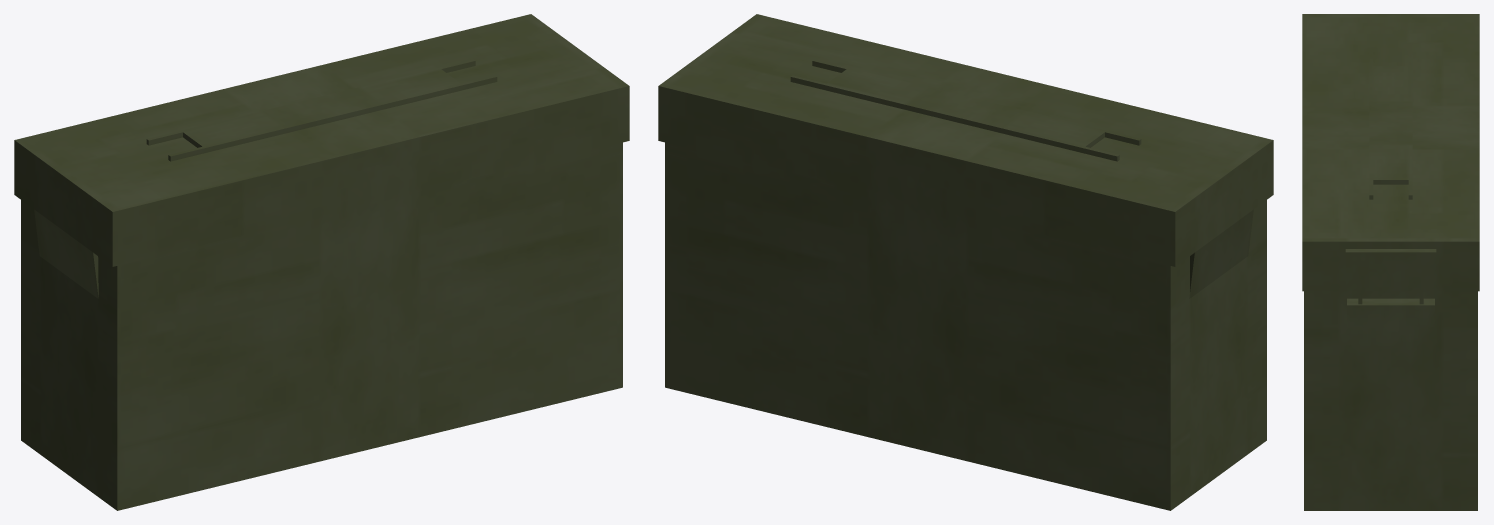
File: AmmoBox.glb
3 views of the same model, side by side, from view 1: azimuth 30°, elevation 25°; view 2: azimuth 150°, elevation 25°; view 3: azimuth 270°, elevation 25° (orthographic). The views are drawn at different scales.
Visible parts, largest first — view 1: AmmoBox; view 2: AmmoBox; view 3: AmmoBox.
Part boxes in pixels (<box>): AmmoBox: <box>14,14,629,510</box>; AmmoBox: <box>658,14,1273,510</box>; AmmoBox: <box>1302,14,1479,510</box>.
Bounding box in the file's own units: 0.9167 × 0.5092 × 0.2964.
Materials: 1 (1 with a texture image).
